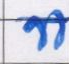i_matra: (50, 10, 65, 49)
